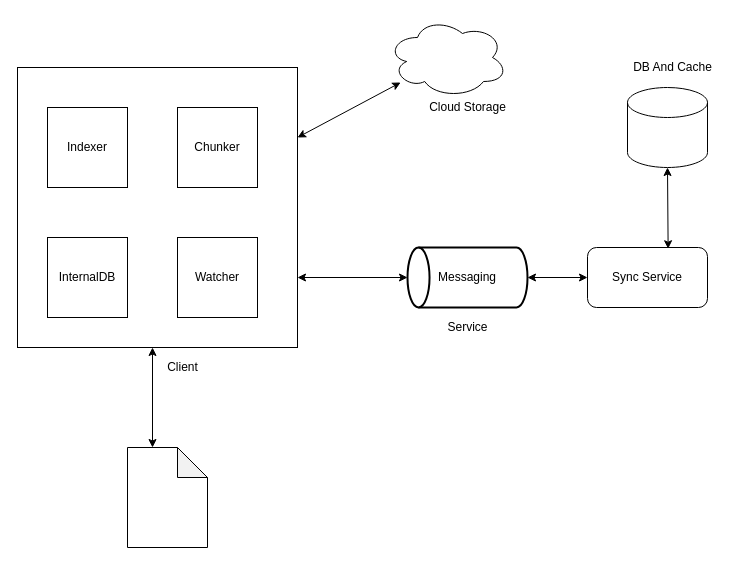
This 735x565 diagram has some shape labels left out. Here are the shapes that lost their labels. From the top down, the centre of each, then its label:
pixel 447 57: S3
pixel 667 127: Meta Data
pixel 167 497: Files
